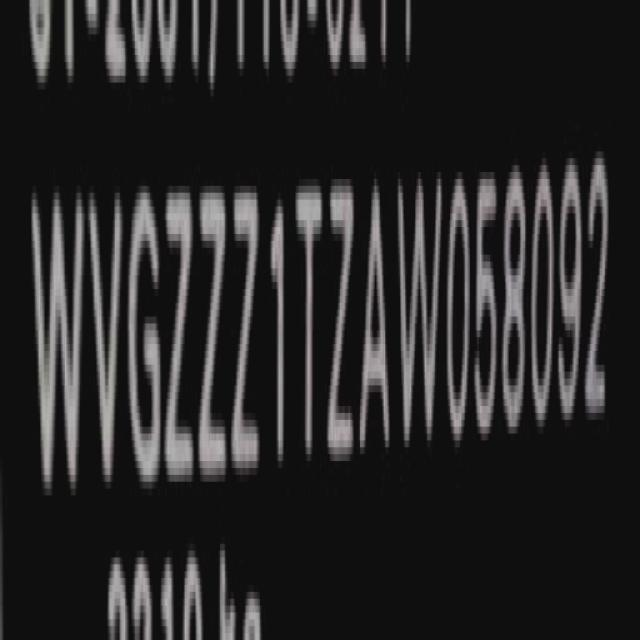0: (446, 171, 474, 449), (530, 164, 555, 430)
1: (267, 180, 289, 483)
2: (589, 148, 614, 428)
5: (475, 163, 500, 444)
8: (504, 162, 528, 440)
9: (555, 154, 582, 429)
A: (362, 173, 394, 470)
G: (127, 190, 164, 502)
T: (296, 174, 323, 478)
V: (88, 198, 124, 482)
W: (33, 181, 83, 510), (399, 166, 445, 461)
Z: (165, 185, 196, 496), (200, 177, 229, 496), (326, 171, 356, 475), (231, 177, 260, 490)
